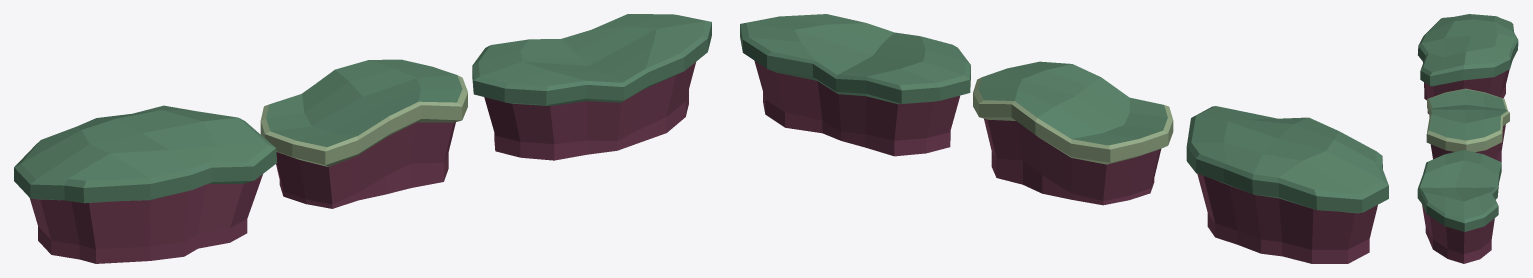
Rendered from terrian.fbx.
3 views of the same model, side by side, from view 1: azimuth 30°, elevation 25°; view 2: azimuth 150°, elevation 25°; view 3: azimuth 270°, elevation 25° (orthographic). The views are drawn at different scales.
Parts seen in each view (by area): view 1: Plane.002, Plane.001, Plane; view 2: Plane.002, Plane.001, Plane; view 3: Plane.001, Plane.002, Plane.
Boxes of the visible parts, bbox=[...] form: Plane.002: bbox=[14, 105, 277, 263]; Plane.001: bbox=[472, 14, 711, 160]; Plane: bbox=[260, 59, 467, 208]; Plane.002: bbox=[1186, 106, 1388, 263]; Plane.001: bbox=[740, 14, 970, 156]; Plane: bbox=[973, 61, 1173, 205]; Plane.001: bbox=[1417, 150, 1501, 263]; Plane.002: bbox=[1418, 14, 1518, 113]; Plane: bbox=[1426, 88, 1509, 161].
Size of the model in its own units: 1514 by 212 by 310.
